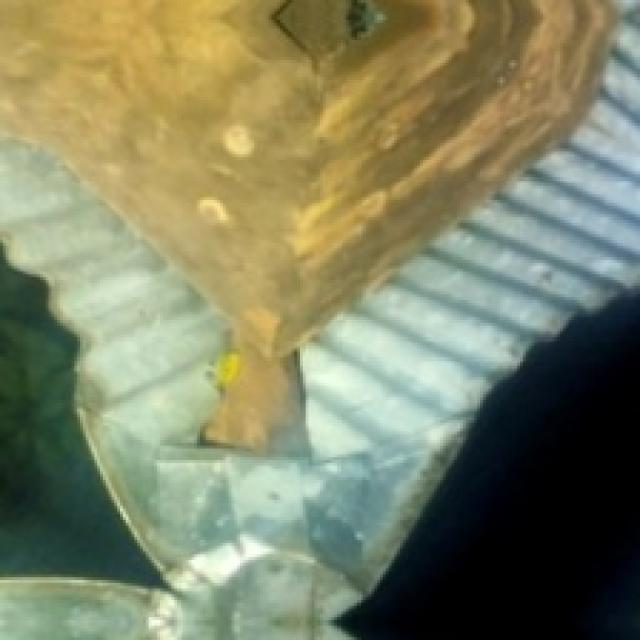red-tailed green ratsnake: (214, 349, 241, 390)
